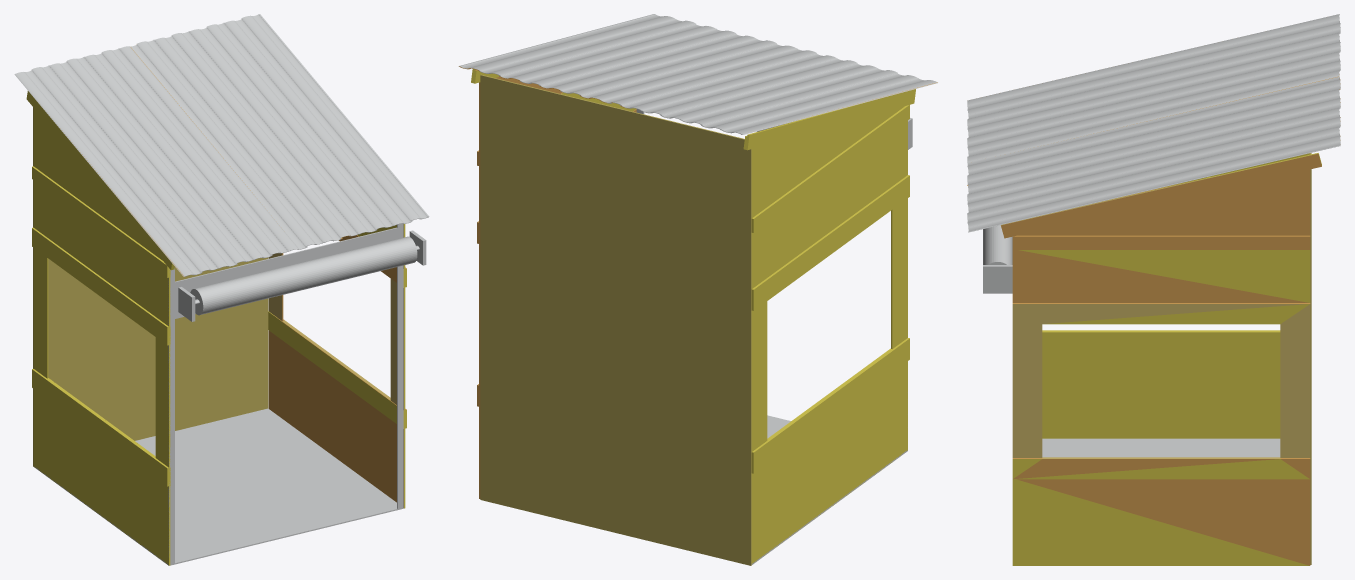
Rendered from Puesteishon_1.glb.
The picture shows the model from 3 angles, left to right: view 1: azimuth 30°, elevation 25°; view 2: azimuth 150°, elevation 25°; view 3: azimuth 270°, elevation 25°; orthographic projection. The views are drawn at different scales.
Visible parts, largest first — view 1: Mesh_Mesh_head_geo.001_lambert2SG.001; view 2: Mesh_Mesh_head_geo.001_lambert2SG.001; view 3: Mesh_Mesh_head_geo.001_lambert2SG.001.
Part boxes in pixels (<box>): Mesh_Mesh_head_geo.001_lambert2SG.001: <box>14,14,429,565</box>; Mesh_Mesh_head_geo.001_lambert2SG.001: <box>458,14,937,565</box>; Mesh_Mesh_head_geo.001_lambert2SG.001: <box>967,14,1340,565</box>.
Bounding box in the file's own units: 213 × 314 × 251.
